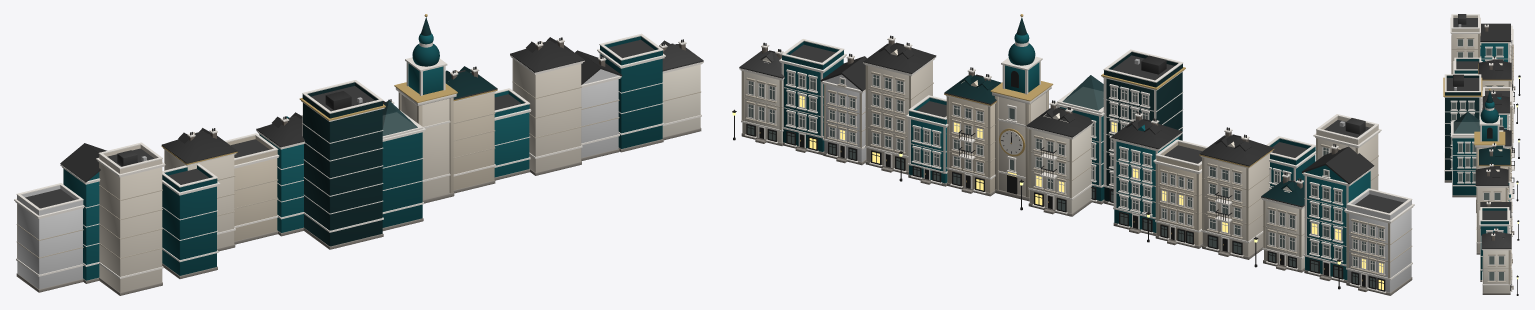
File: footer-city-rendal.glb
3 views of the same model, side by side, from view 1: azimuth 30°, elevation 25°; view 2: azimuth 150°, elevation 25°; view 3: azimuth 270°, elevation 25° (orthographic). The views are drawn at different scales.
Visible parts, largest first — view 1: Bld_08_petrol_dark, Bld_02_stone, Bld_14_stone, Bld_00_grey, Bld_04_petrol_mid, Bld_16_petrol_mid, Bld_12_stone_warm, Bld_06_stone_warm, Bld_09_petrol_mid, Bld_11_stone, Bld_15_grey, Bld_17_ivory (+29 smaller); view 2: Bld_05_stone, Bld_00_grey, Bld_08_petrol_dark, Bld_10_ivory, Bld_14_stone, Bld_01_trim, Bld_08_trim, Bld_16_trim, Bld_01_petrol, Bld_07_trim, Bld_16_petrol_mid, Bld_12_stone_warm (+65 smaller); view 3: Bld_08_petrol_dark, Bld_09_trim, Bld_09_petrol_mid, Bld_17_ivory, Bld_08_trim, Bld_02_stone, Bld_05_slate, Bld_14_slate, Bld_01_slate, Bld_12_petrol_dark, Bld_17_slate_l, Bld_14_stone (+52 smaller).
Boxes of the visible parts, x1,y1,x2,y2 form: Bld_08_petrol_dark: (302,82,382,246); Bld_02_stone: (99,145,162,292); Bld_14_stone: (513,41,581,172); Bld_00_grey: (17,185,83,289); Bld_04_petrol_mid: (162,165,217,275); Bld_16_petrol_mid: (600,36,662,148); Bld_12_stone_warm: (453,70,494,190); Bld_06_stone_warm: (227,135,277,241); Bld_09_petrol_mid: (382,132,422,227); Bld_11_stone: (401,94,449,199); Bld_15_grey: (581,69,618,157); Bld_17_ivory: (662,64,700,137); Bld_05_stone: (1202,141,1269,256); Bld_00_grey: (1347,190,1411,292); Bld_08_petrol_dark: (1104,52,1182,201); Bld_10_ivory: (1029,113,1091,213); Bld_14_stone: (866,49,932,171); Bld_01_trim: (1302,145,1373,280); Bld_08_trim: (1102,49,1184,204); Bld_16_trim: (779,39,846,152); Bld_01_petrol: (1305,165,1370,280); Bld_07_trim: (1111,113,1182,233); Bld_16_petrol_mid: (782,41,843,151); Bld_12_stone_warm: (947,80,994,192); Bld_08_petrol_dark: (1445,75,1480,180); Bld_09_trim: (1451,120,1479,186); Bld_09_petrol_mid: (1452,138,1476,195); Bld_17_ivory: (1483,250,1510,292); Bld_08_trim: (1444,74,1482,171); Bld_02_stone: (1451,15,1479,74); Bld_05_slate: (1478,59,1511,78); Bld_14_slate: (1476,166,1508,185); Bld_01_slate: (1480,23,1510,41); Bld_12_petrol_dark: (1479,145,1510,164); Bld_17_slate_l: (1481,227,1511,248); Bld_14_stone: (1477,169,1505,252).
Size of the model in its own units: 22.42 by 5.74 by 3.38.
